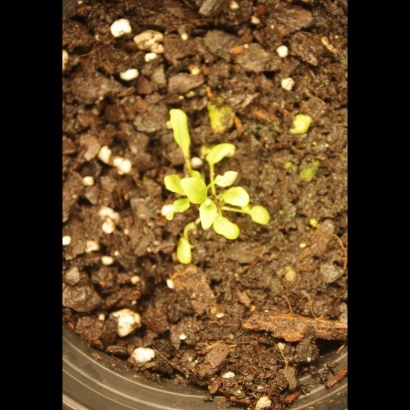leaf: (161, 102, 198, 163), (170, 235, 203, 272), (205, 136, 237, 166), (251, 201, 280, 231), (221, 186, 255, 211), (199, 201, 222, 236), (215, 213, 242, 242), (181, 177, 209, 204), (216, 168, 241, 191), (161, 172, 184, 195), (169, 196, 192, 219)
